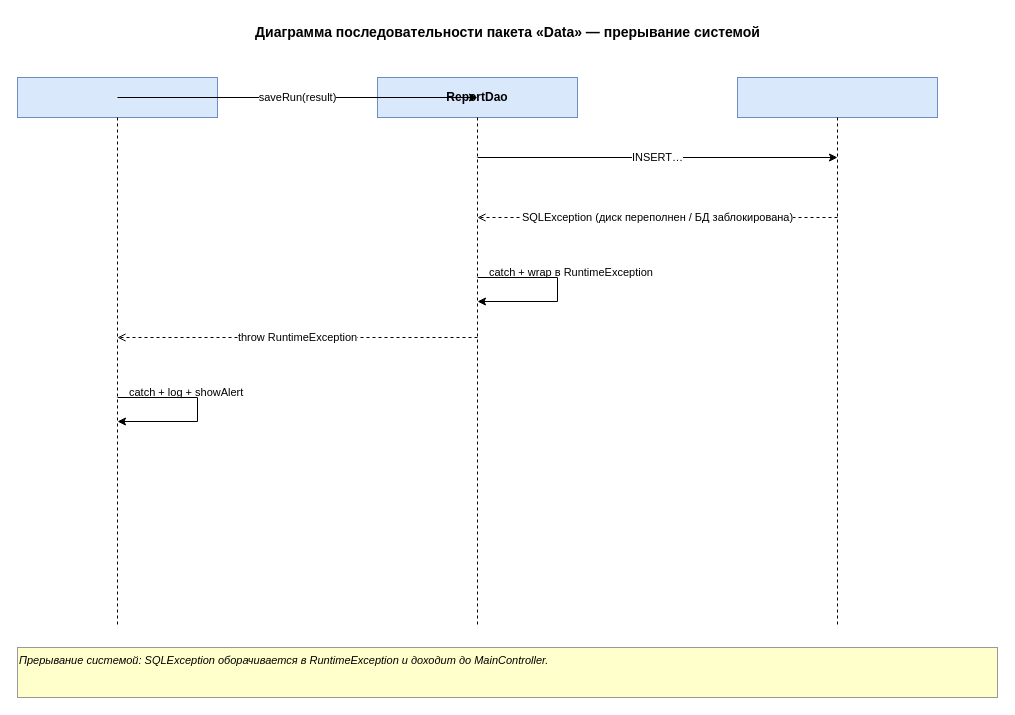
Image size: 1015x715. Some labels were removed from this diagram. Here are the shapes that lost their labels. From the top down, the centre of each, then its label:
the point at 117,97: MainController
the point at 837,97: SQLite
